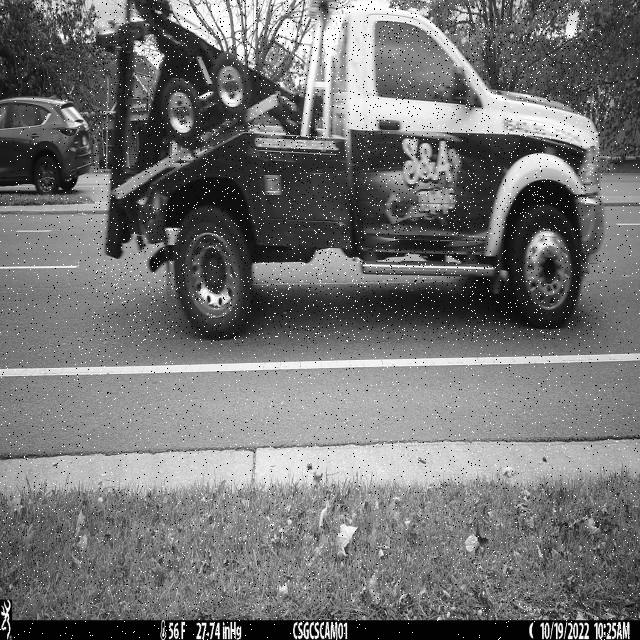Tow Truck: (93, 0, 604, 341)
